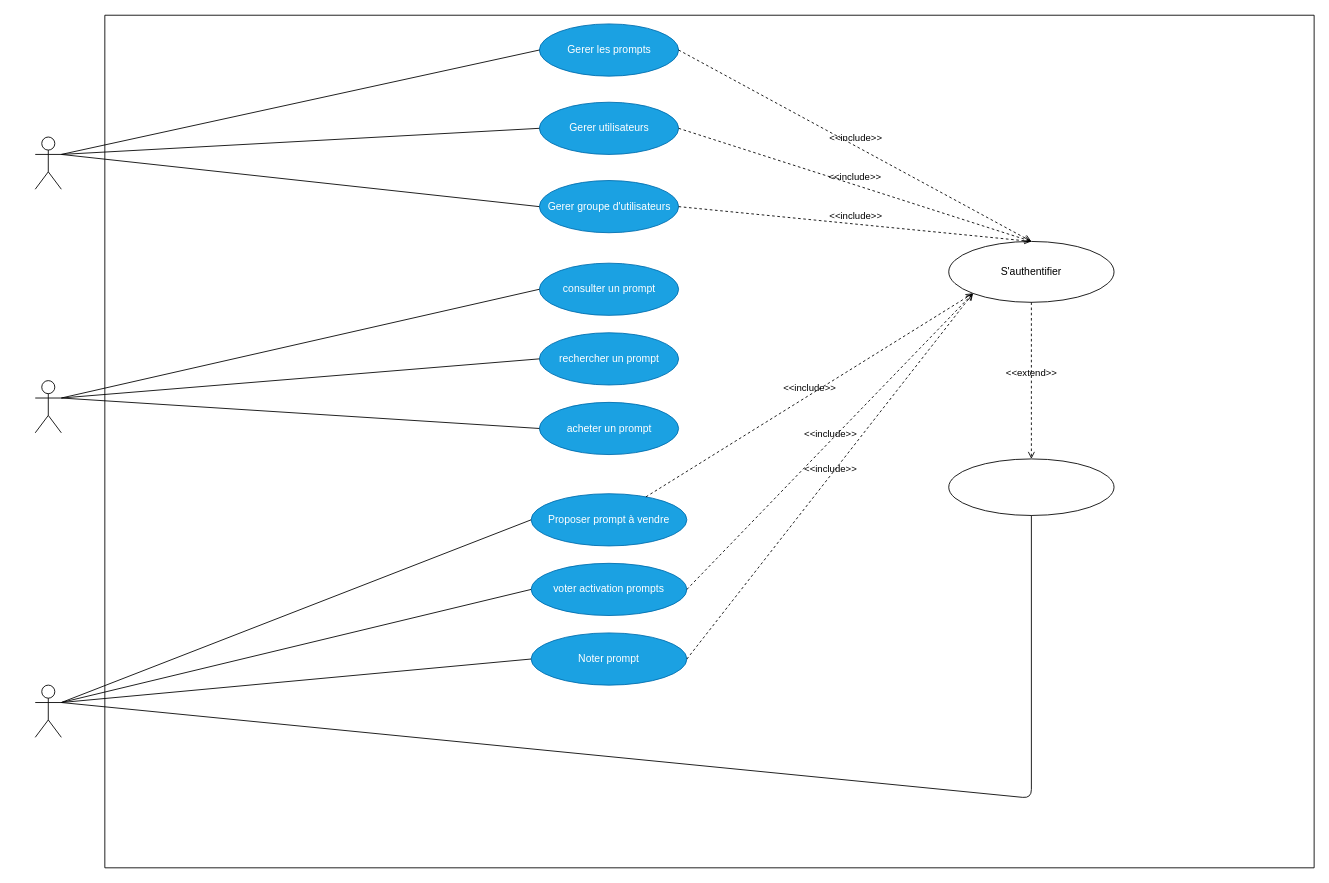
This 1329x883 diagram has some shape labels left out. The shapes that lost their labels are listed below. From the top down, each one's centre as x and y in pixels, then its label:
At (x=47, y=162): "Administrateur".
At (x=47, y=406): "Visiteur".
At (x=1031, y=486): "S'inscrire".
At (x=47, y=710): "Utilisateur".
